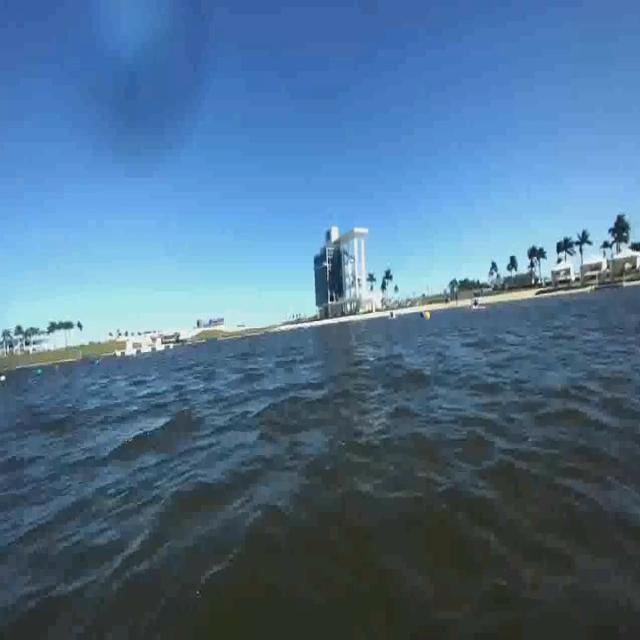yellow-buoy: (424, 310, 432, 322)
